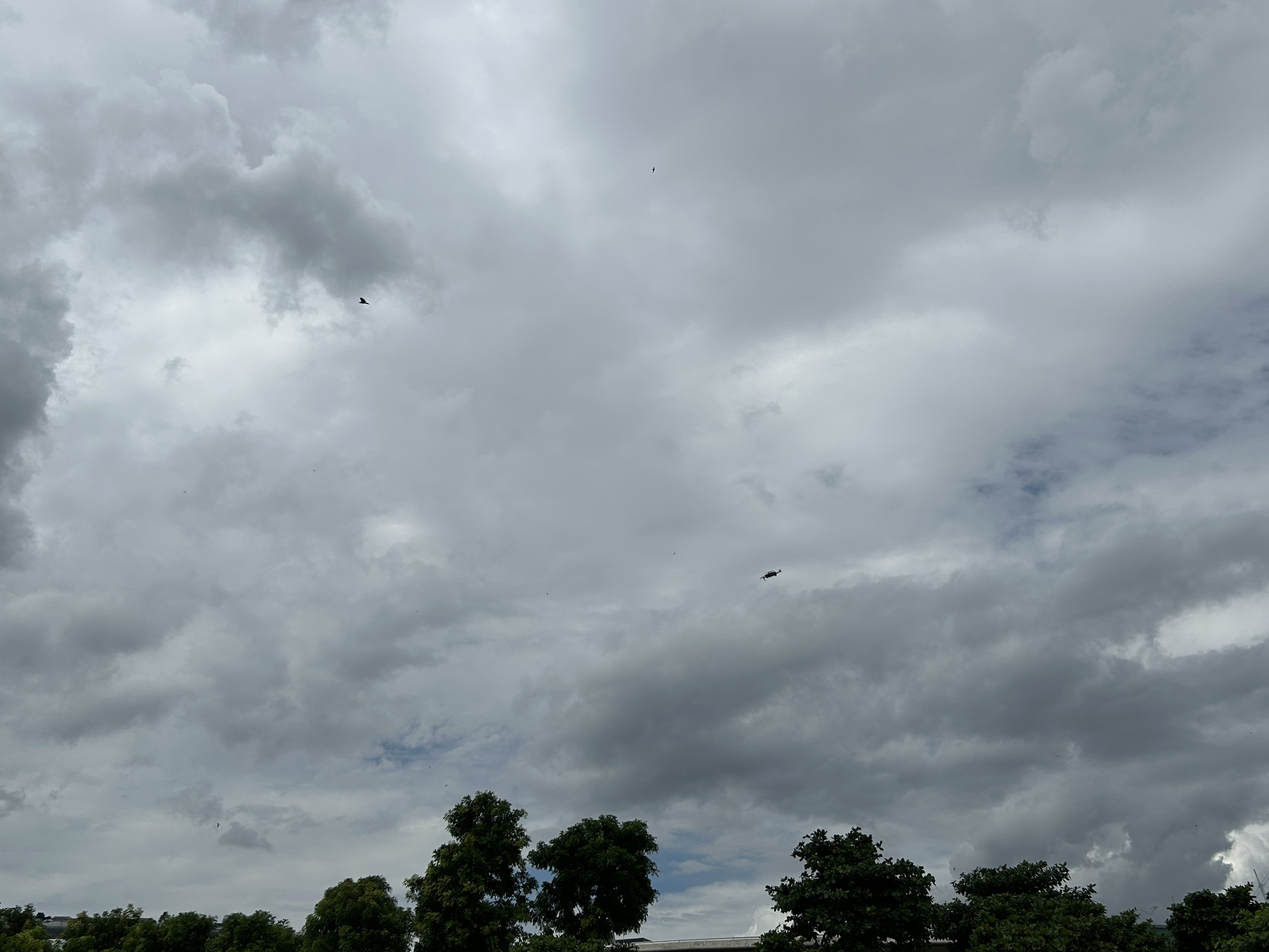drone_other: (758, 567, 784, 582)
